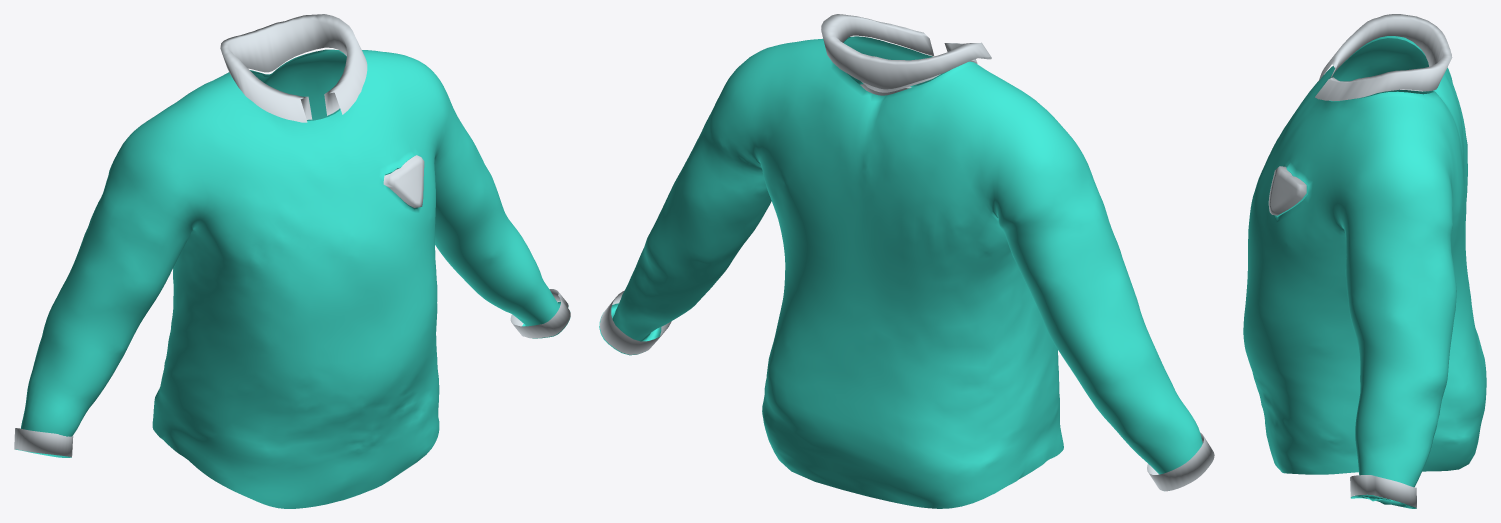
Rendered from Male-XX-Large-shirtWithAbbi.glb.
The picture shows the model from 3 angles, left to right: view 1: azimuth 30°, elevation 25°; view 2: azimuth 150°, elevation 25°; view 3: azimuth 270°, elevation 25°; orthographic projection. The views are drawn at different scales.
Parts seen in each view (by area): view 1: Group1.035; view 2: Group1.035; view 3: Group1.035.
Boxes of the visible parts, x1,y1,x2,y2 form: Group1.035: (14,14,570,508); Group1.035: (599,14,1214,508); Group1.035: (1243,14,1486,508).
Size of the model in its own units: 1.93 by 1.38 by 0.7422.
